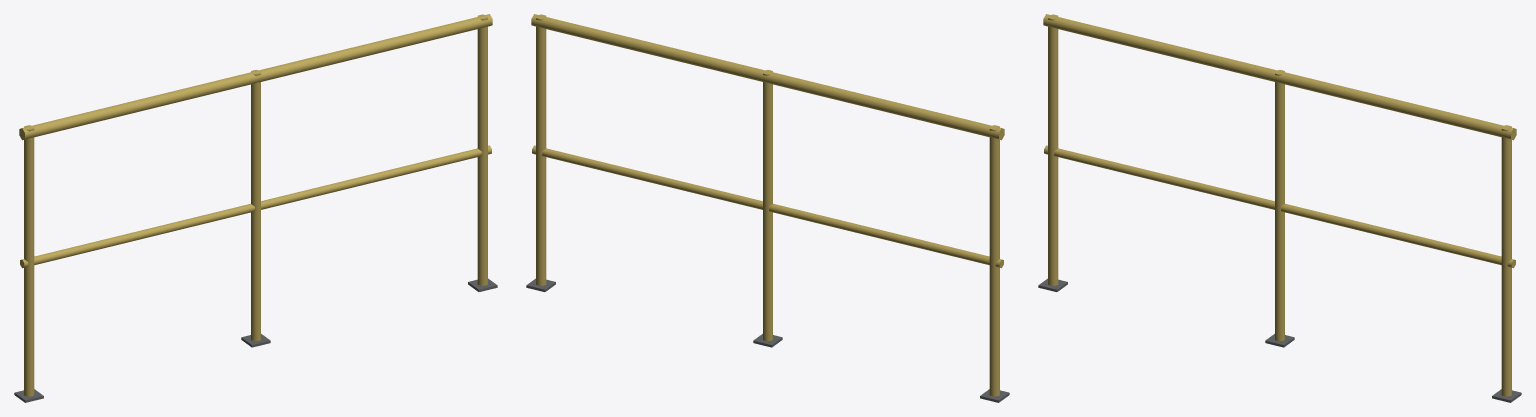
The model's file is rail_steel.glb.
3 renders of one model, left to right at view 1: azimuth 30°, elevation 25°; view 2: azimuth 150°, elevation 25°; view 3: azimuth 330°, elevation 25°, orthographic.
Parts seen in each view (by area): view 1: rail_steel; view 2: rail_steel; view 3: rail_steel.
Boxes of the visible parts, x1=… form: rail_steel: x1=14, y1=14, x2=497, y2=402; rail_steel: x1=526, y1=14, x2=1009, y2=402; rail_steel: x1=1038, y1=14, x2=1521, y2=402.
Bounding box in the file's own units: 2.02 × 1.11 × 0.08.
